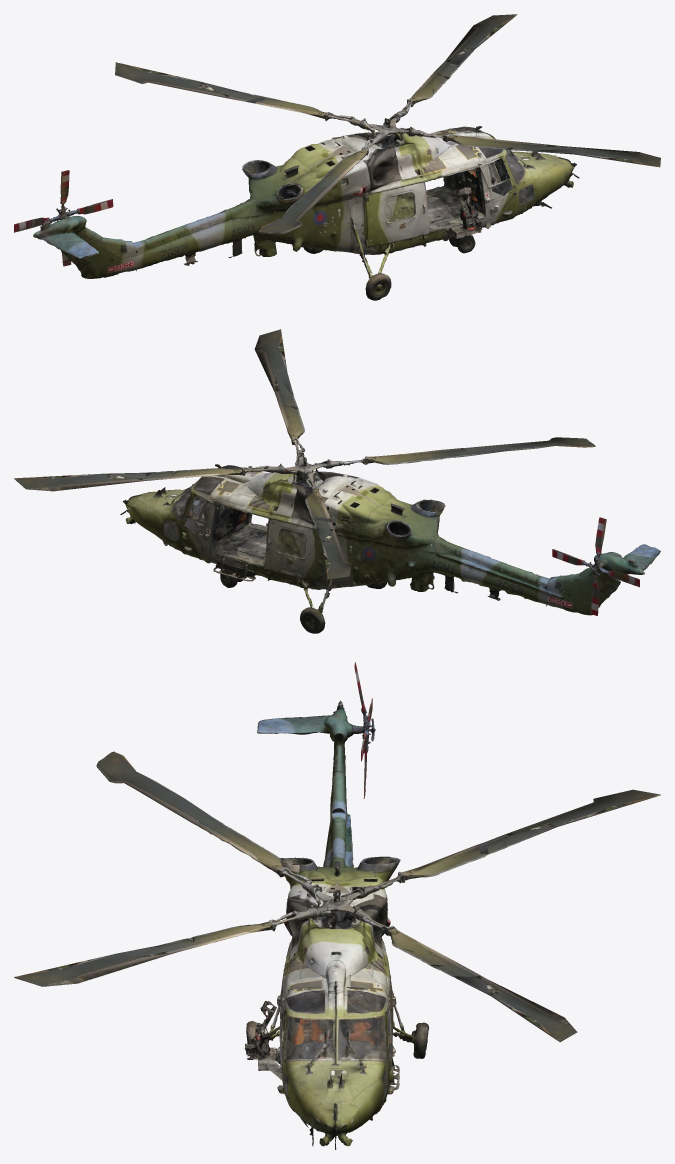
File: lynx_helicopter.glb
3 renders of one model, top to bottom at view 1: azimuth 30°, elevation 25°; view 2: azimuth 150°, elevation 25°; view 3: azimuth 270°, elevation 25°, orthographic. The views are drawn at different scales.
Parts seen in each view (by area): view 1: LynxHelicopter; view 2: LynxHelicopter; view 3: LynxHelicopter.
Boxes of the visible parts, box(x1,y1,x2,y2) form: LynxHelicopter: box(14, 14, 660, 300); LynxHelicopter: box(14, 329, 660, 633); LynxHelicopter: box(14, 662, 660, 1149).
Bounding box in the file's own units: 0.4049 × 0.1133 × 0.3025.
Materials: 2 (1 with a texture image).
